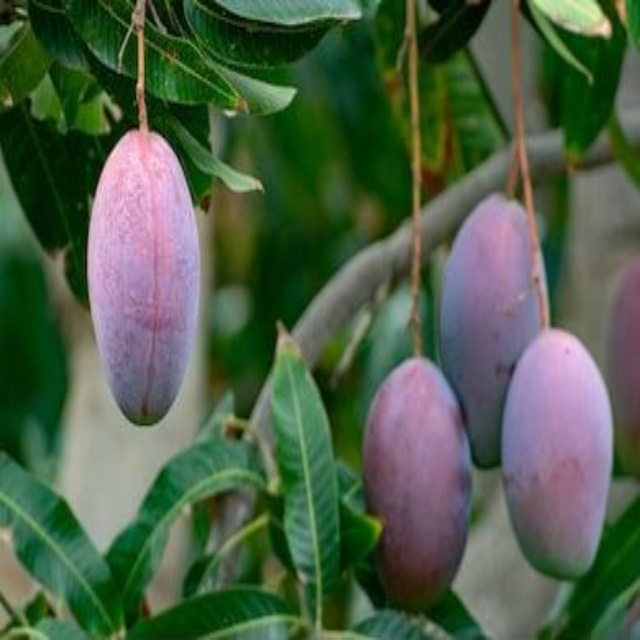mango: (85, 127, 213, 438), (358, 360, 476, 627), (443, 186, 547, 478), (504, 336, 610, 580)
